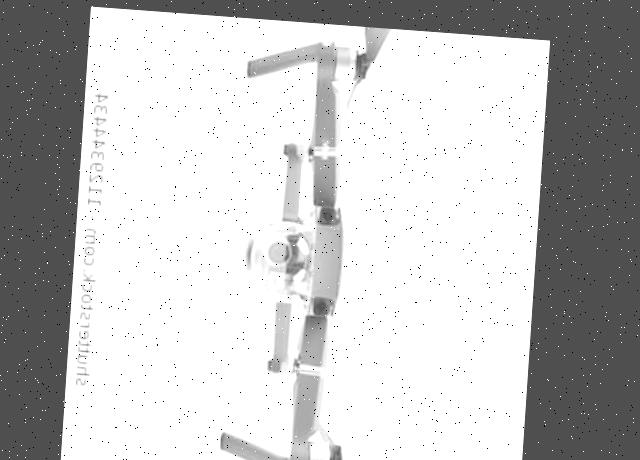drone: (209, 14, 448, 460)
